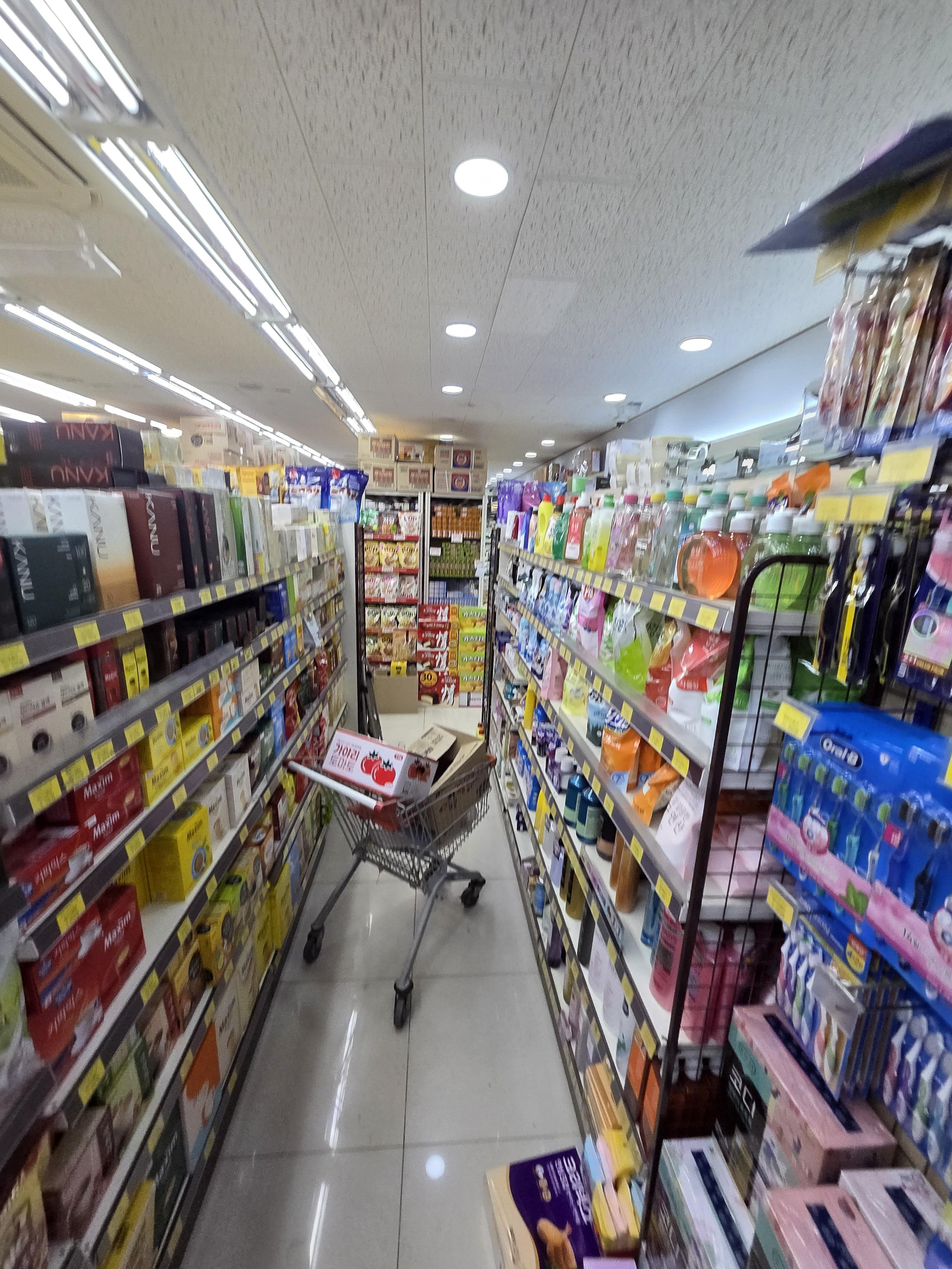fully_cart: (286, 705, 514, 1035)
